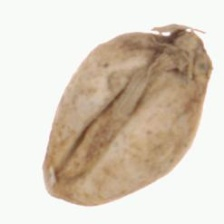L1: (154, 25, 214, 69), (39, 159, 65, 204)
L2: (41, 24, 213, 207)
